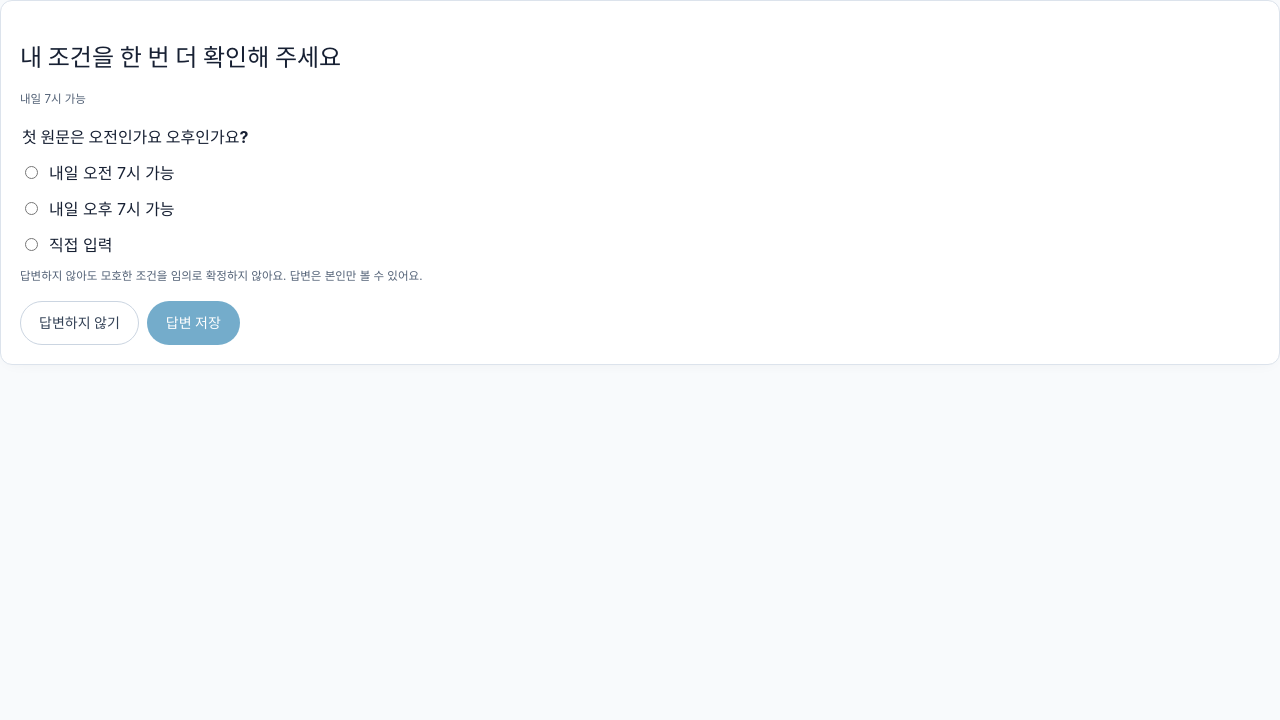
Test: #107 explicit answer intent belongs to its question identity › keeps an unanswered direct draft and selection across a refetch of the identical question
Click the radio button labelled "직접 입력": click(32, 244) top-left (25, 238), bottom-right (38, 251)
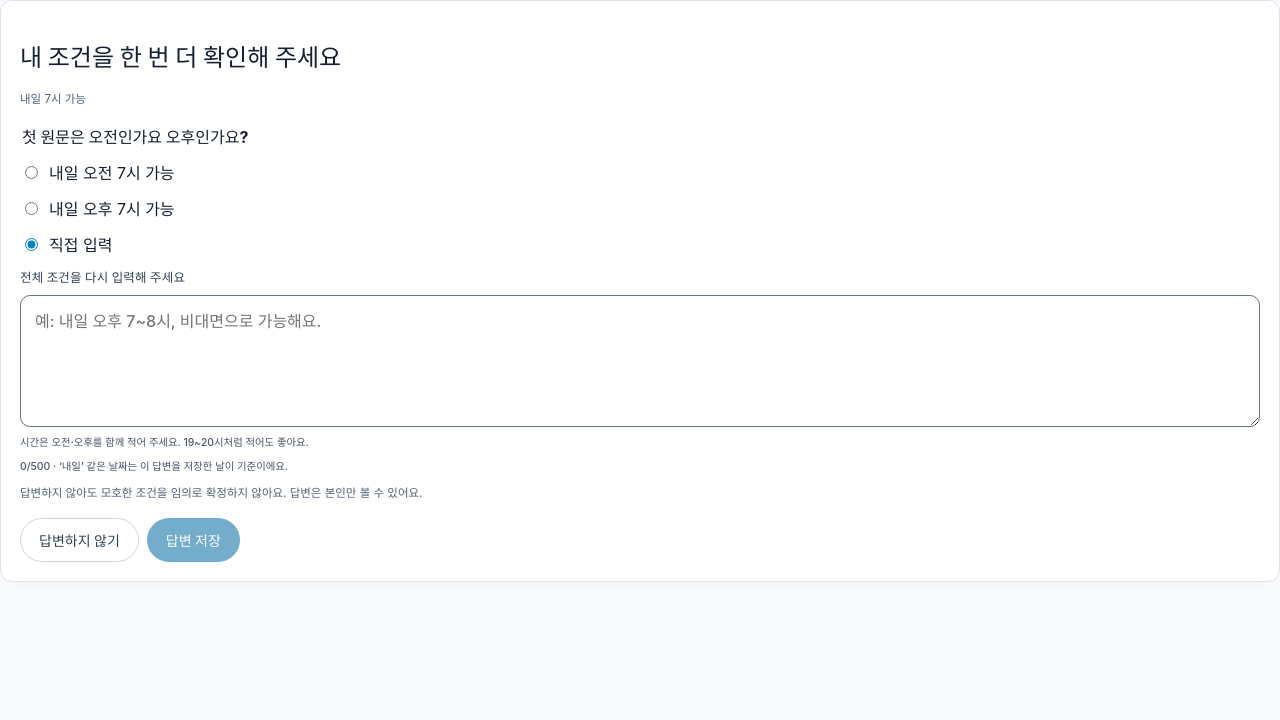
In the text box: (640, 361) top-left (20, 295), bottom-right (1260, 427), type "동일한 질문에서 작성 중인 전체 조건"
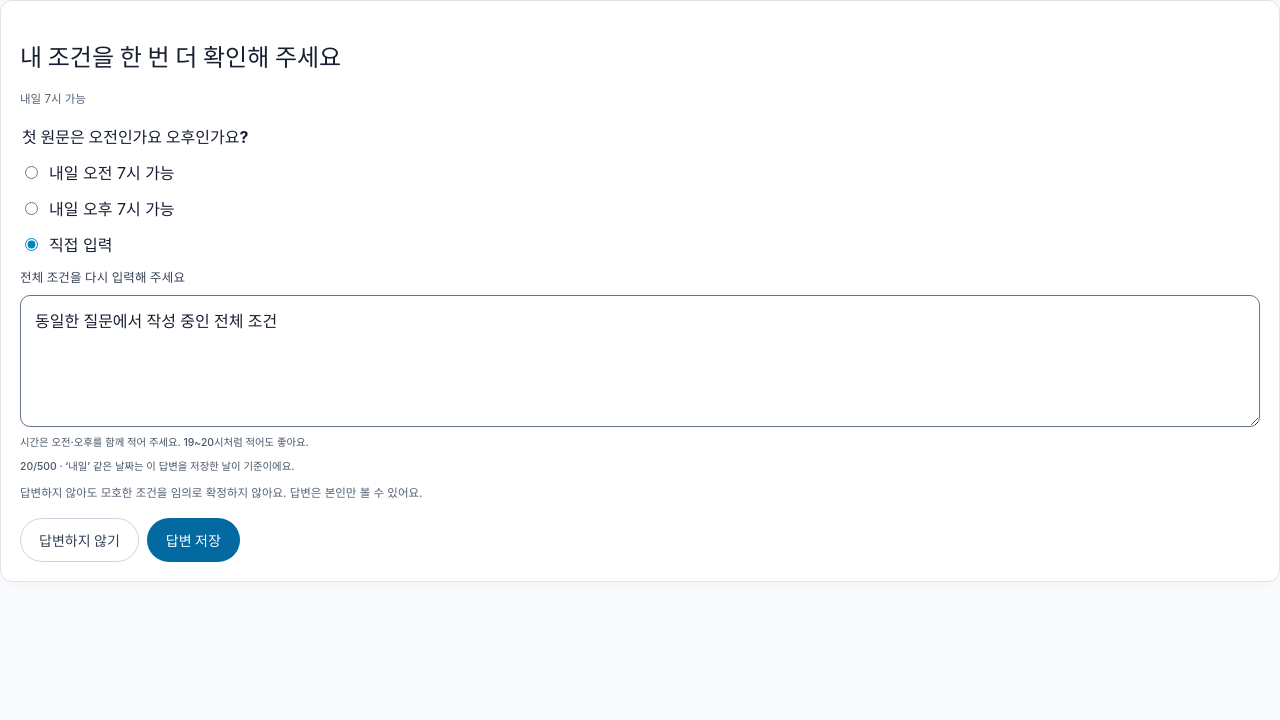
Expected: the radio button labelled "직접 입력" is checked, top-left (25, 238), bottom-right (38, 251)
Expected: the button "답변 저장" is enabled, top-left (147, 518), bottom-right (240, 562)
